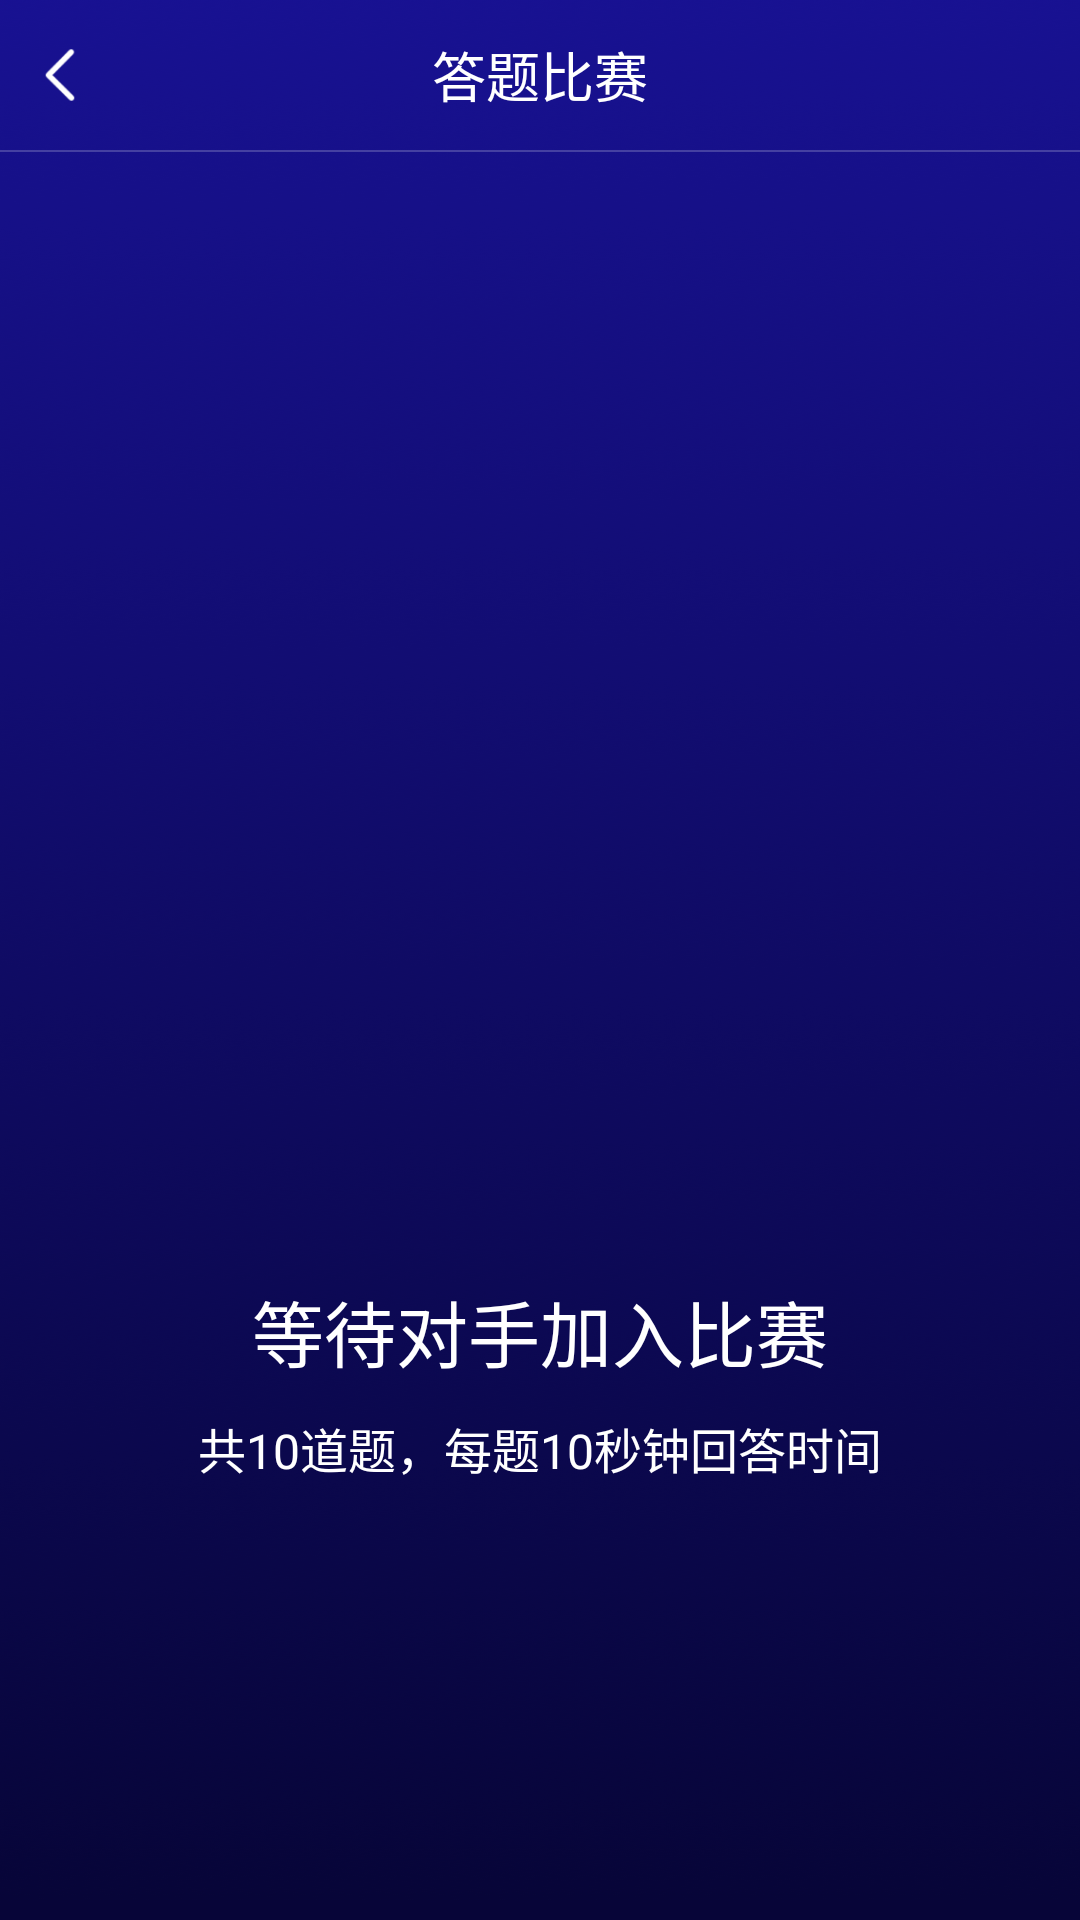

Where icons sit on this 1080w x 1920h app screen, as detection(x1, y1, x2, y2):
back: detection(45, 49, 75, 101)
